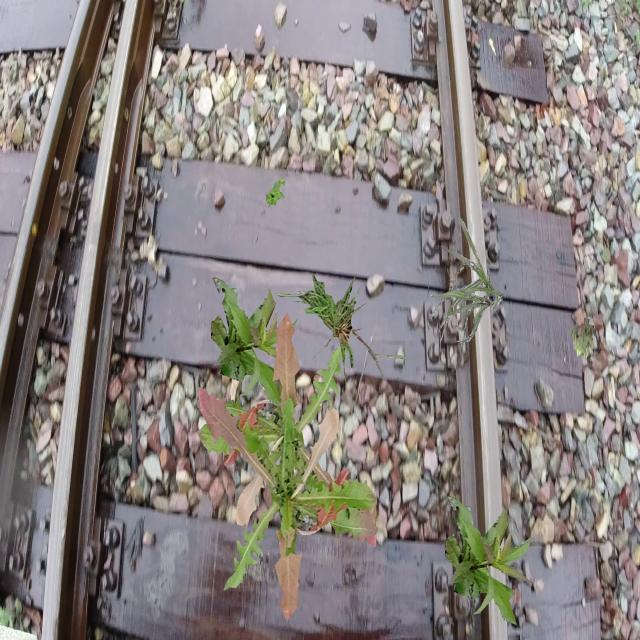Plant: (197, 345, 377, 623), (199, 313, 379, 591), (264, 270, 408, 390), (445, 496, 534, 626), (211, 277, 300, 407), (431, 217, 504, 342), (569, 318, 595, 360), (266, 177, 286, 210)
